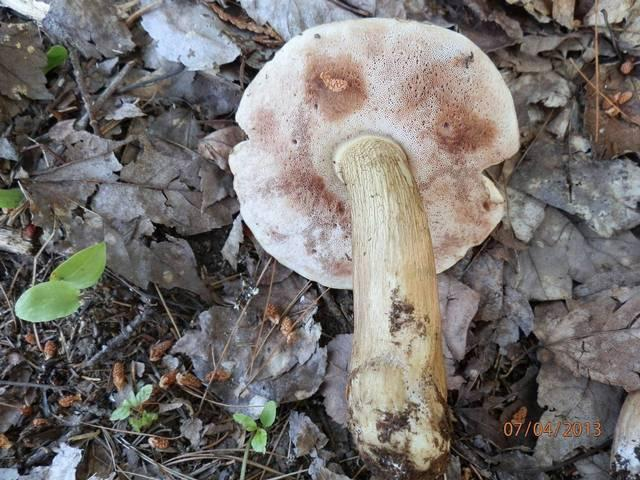poisonous_mushroom: (226, 16, 521, 478)
